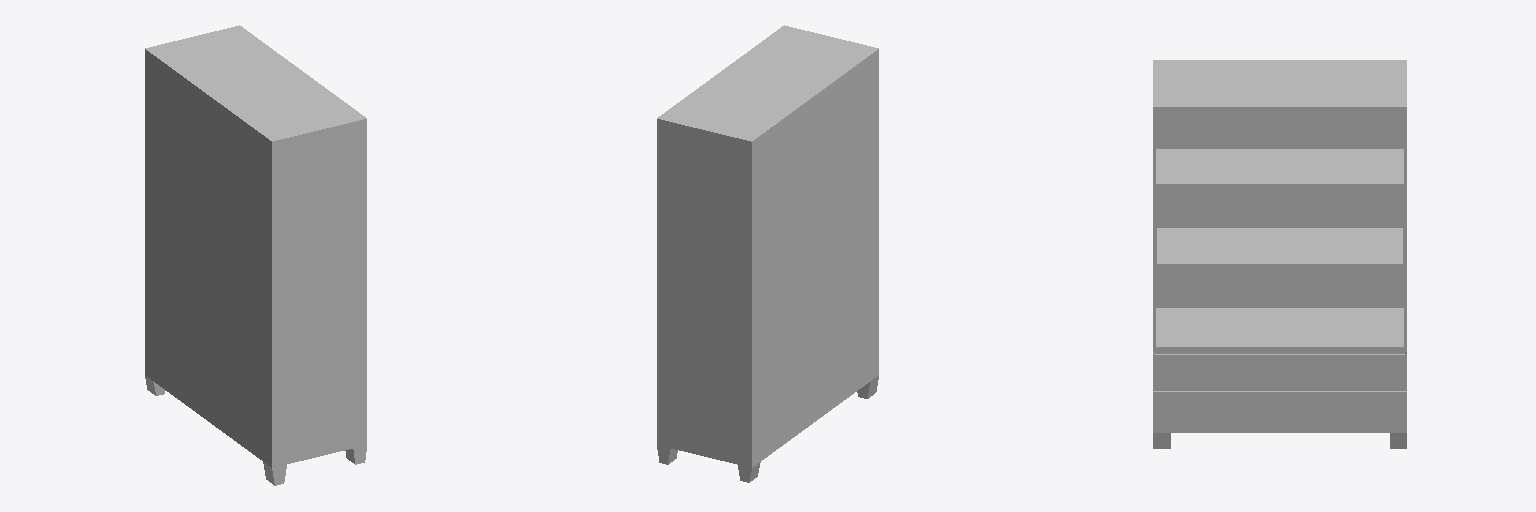
File: bookshelf2.obj
3 renders of one model, left to right at view 1: azimuth 30°, elevation 25°; view 2: azimuth 150°, elevation 25°; view 3: azimuth 270°, elevation 25°, orthographic.
Visible parts, largest first — view 1: Cube; view 2: Cube; view 3: Cube.
Part boxes in pixels (x1,y1,x2,y2): Cube: (145, 25, 366, 485); Cube: (657, 25, 878, 482); Cube: (1153, 60, 1406, 448).
Bounding box in the file's own units: 2 × 6.92 × 4.63.